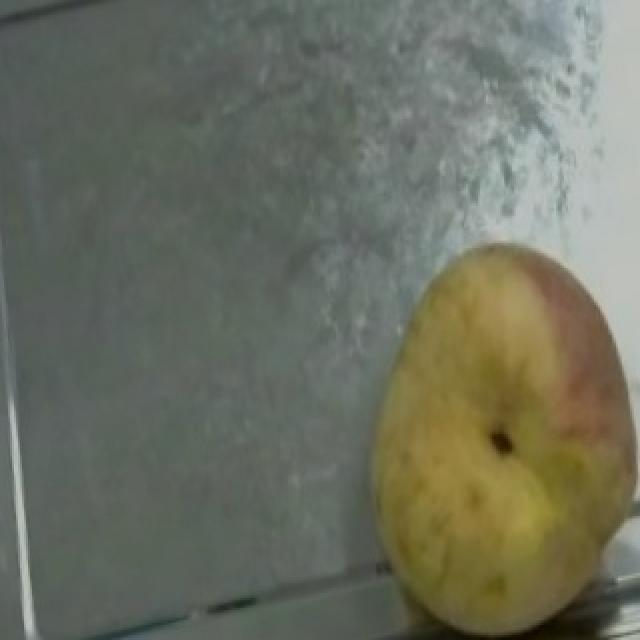Fruit: (324, 315, 640, 640)
